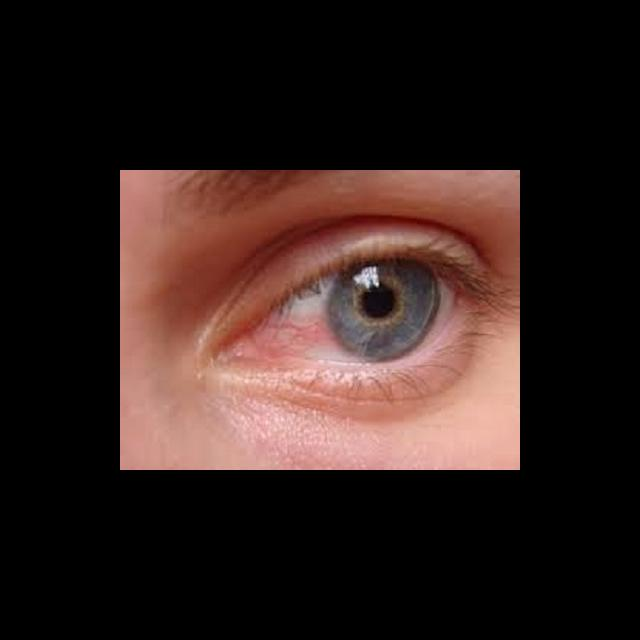eye: (250, 256, 455, 369)
iris: (326, 258, 439, 364)
